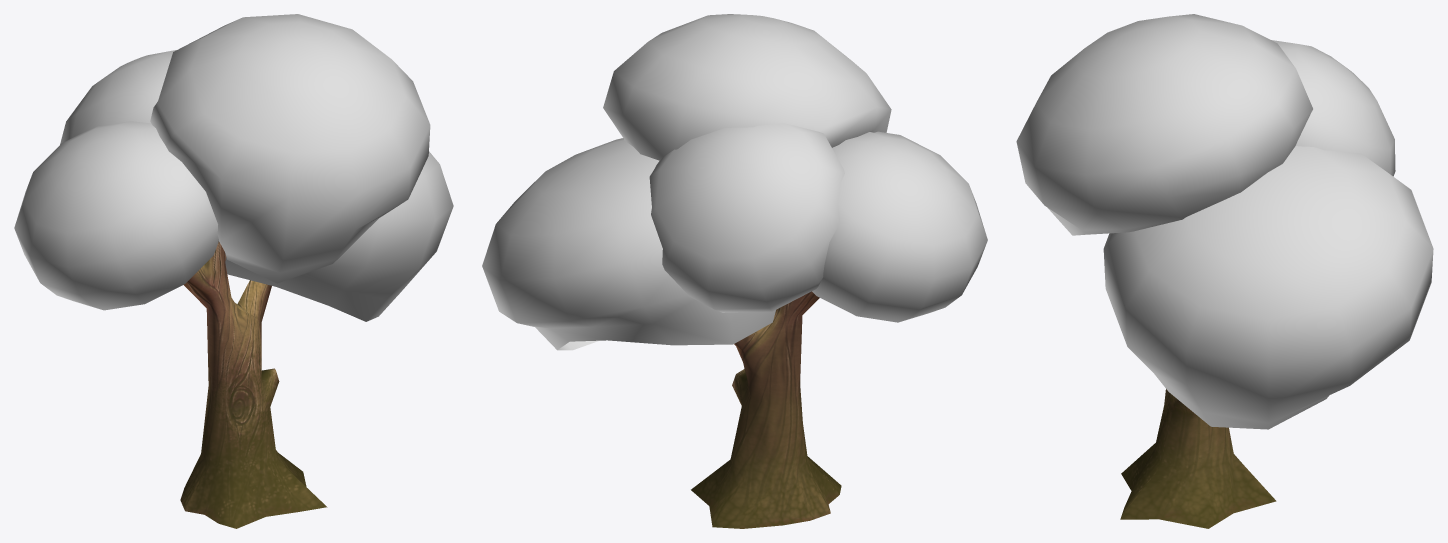
File: StylizedTree.fbx
3 views of the same model, side by side, from view 1: azimuth 30°, elevation 25°; view 2: azimuth 150°, elevation 25°; view 3: azimuth 270°, elevation 25° (orthographic). The views are drawn at different scales.
Visible parts, largest first — view 1: Circle.002, Circle, TreeBkup.003, Circle.001, Circle.003; view 2: Circle.001, Circle.003, Circle.002, Circle, TreeBkup.003; view 3: Circle.001, Circle.002, TreeBkup.003, Circle.003.
Boxes of the visible parts, bbox=[...] form: Circle.002: bbox=[150, 14, 430, 283]; Circle: bbox=[14, 121, 218, 310]; TreeBkup.003: bbox=[180, 241, 327, 528]; Circle.001: bbox=[225, 151, 453, 321]; Circle.003: bbox=[60, 50, 176, 144]; Circle.001: bbox=[482, 138, 775, 350]; Circle.003: bbox=[649, 123, 844, 312]; Circle.002: bbox=[603, 14, 891, 160]; Circle: bbox=[812, 131, 987, 322]; TreeBkup.003: bbox=[691, 291, 841, 528]; Circle.001: bbox=[1103, 146, 1433, 429]; Circle.002: bbox=[1016, 14, 1312, 235]; TreeBkup.003: bbox=[1120, 389, 1276, 528]; Circle.003: bbox=[1271, 40, 1395, 176].
Size of the model in its own units: 670 by 678 by 535.
